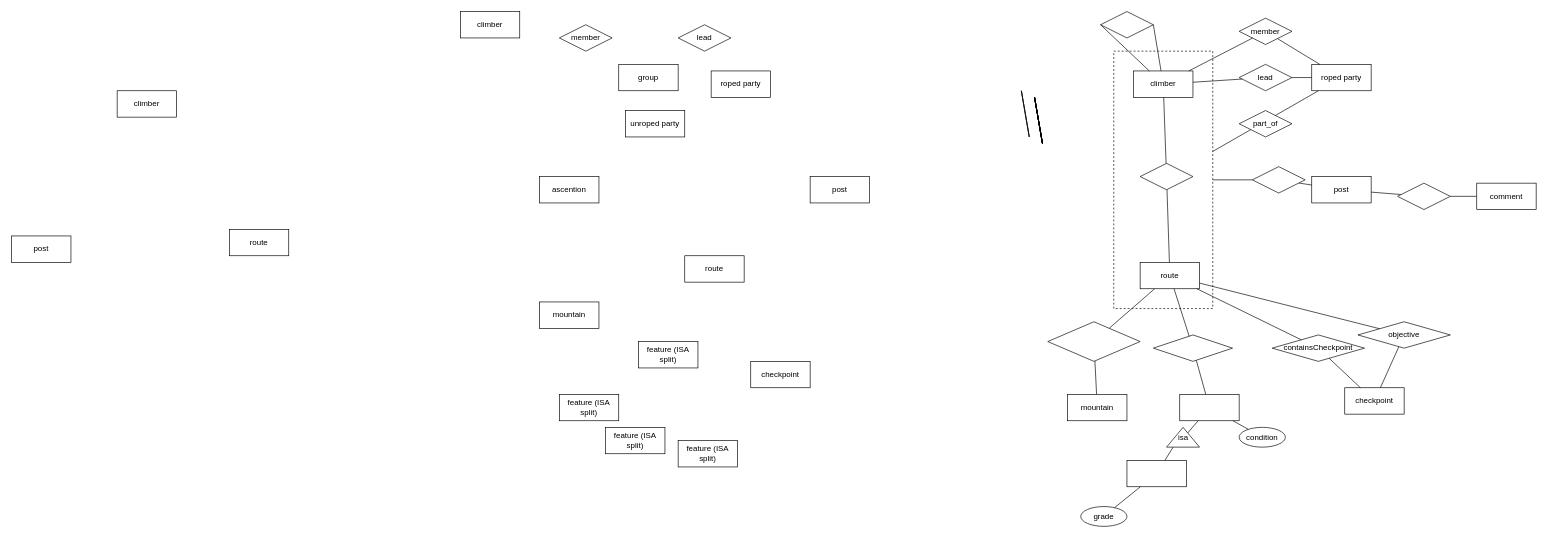
The diagram is 1548 pixels wide and 538 high, and some of its shapes have lost their labels. Here are the shapes that lost their labels. From the top down, the centre of each, then its label:
At (x=1126, y=24): "follows".
At (x=1166, y=176): "climbs".
At (x=1278, y=179): "authored".
At (x=1423, y=196): "commenton".
At (x=1093, y=341): "routeOnMountain".
At (x=1193, y=347): "containsFeature".
At (x=1209, y=407): "feature".
At (x=1156, y=473): "technical terrain".
